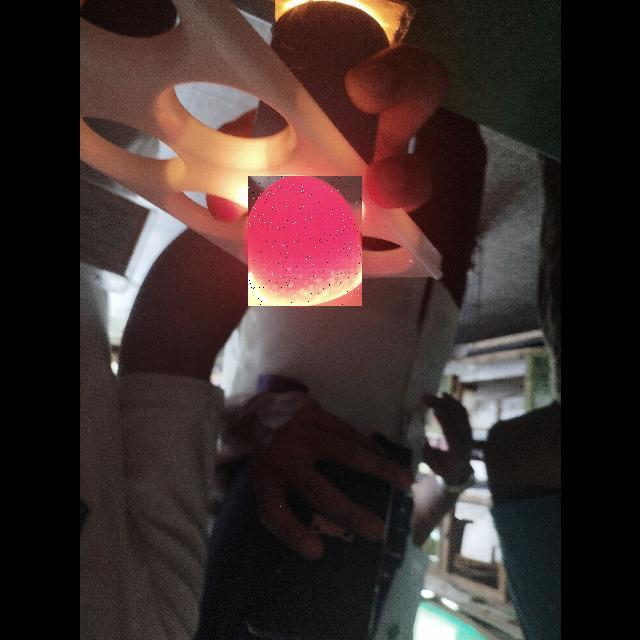Infertile: (248, 176, 362, 306)
